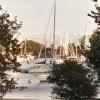Boat: (24, 52, 52, 77)
